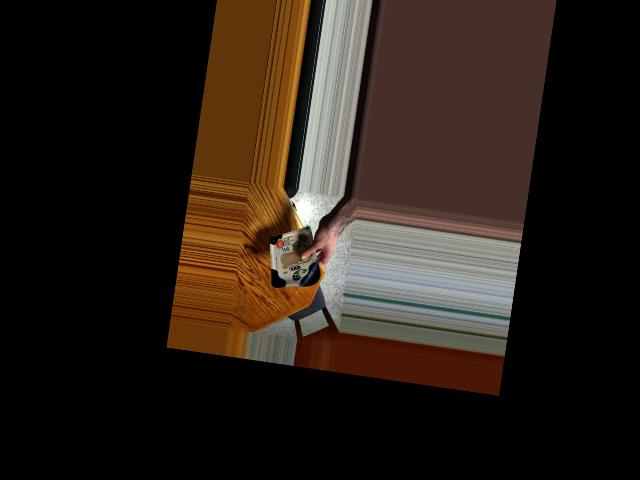cheese: (264, 231, 323, 291)
